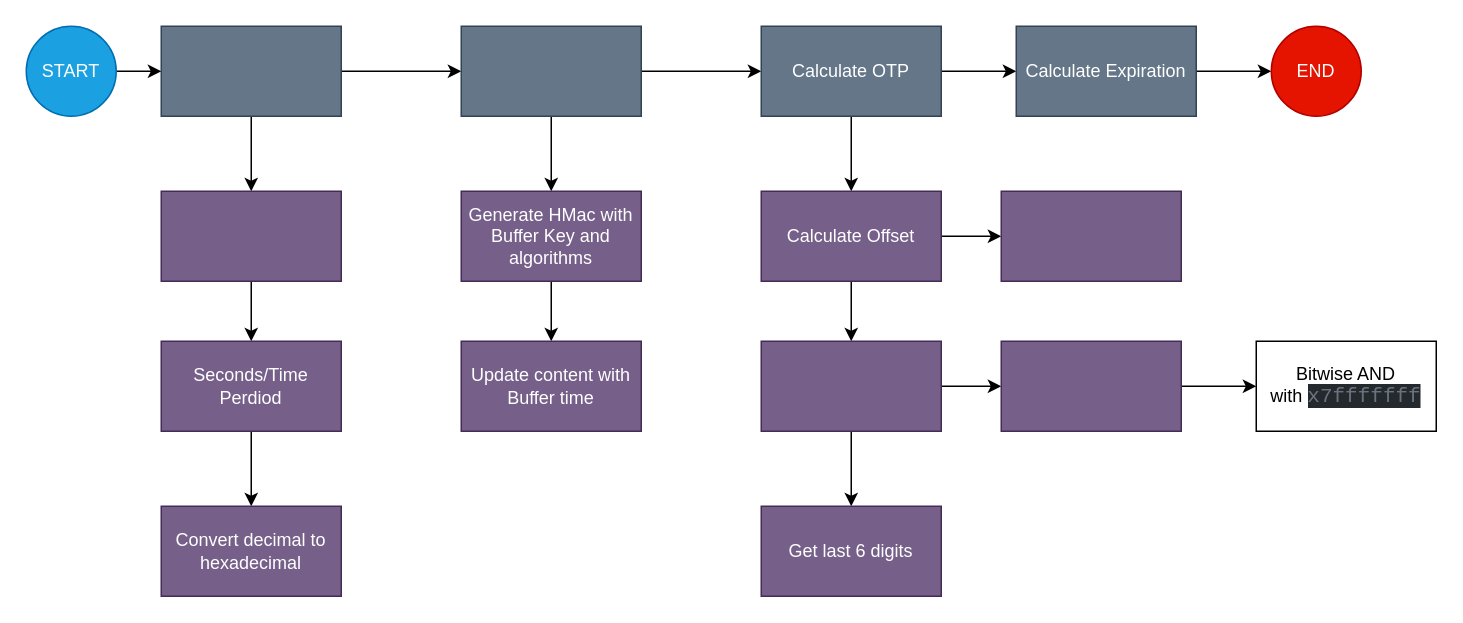
The diagram is 1463 pixels wide and 623 high, and some of its shapes have lost their labels. The box of each missing label's shape, as (x1, y1, x2, y2) in pixels:
Calculate Masked Value: (760, 340, 941, 431)
Calculate Time Hexadecimal Value: (160, 25, 341, 116)
Generate Cryptographic hash: (460, 25, 641, 116)
Get 4 bytes of offset: (1000, 340, 1181, 431)
Get epoch time in seconds: (160, 190, 341, 281)
Get last 4 bits of signature * 2: (1000, 190, 1181, 281)
